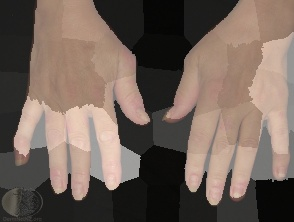Nail_psoriasis: (130, 103, 154, 126), (160, 103, 181, 124), (50, 172, 66, 195), (186, 171, 203, 192), (230, 182, 248, 201), (208, 186, 222, 207), (104, 173, 118, 191), (13, 148, 25, 167), (72, 184, 85, 201)
